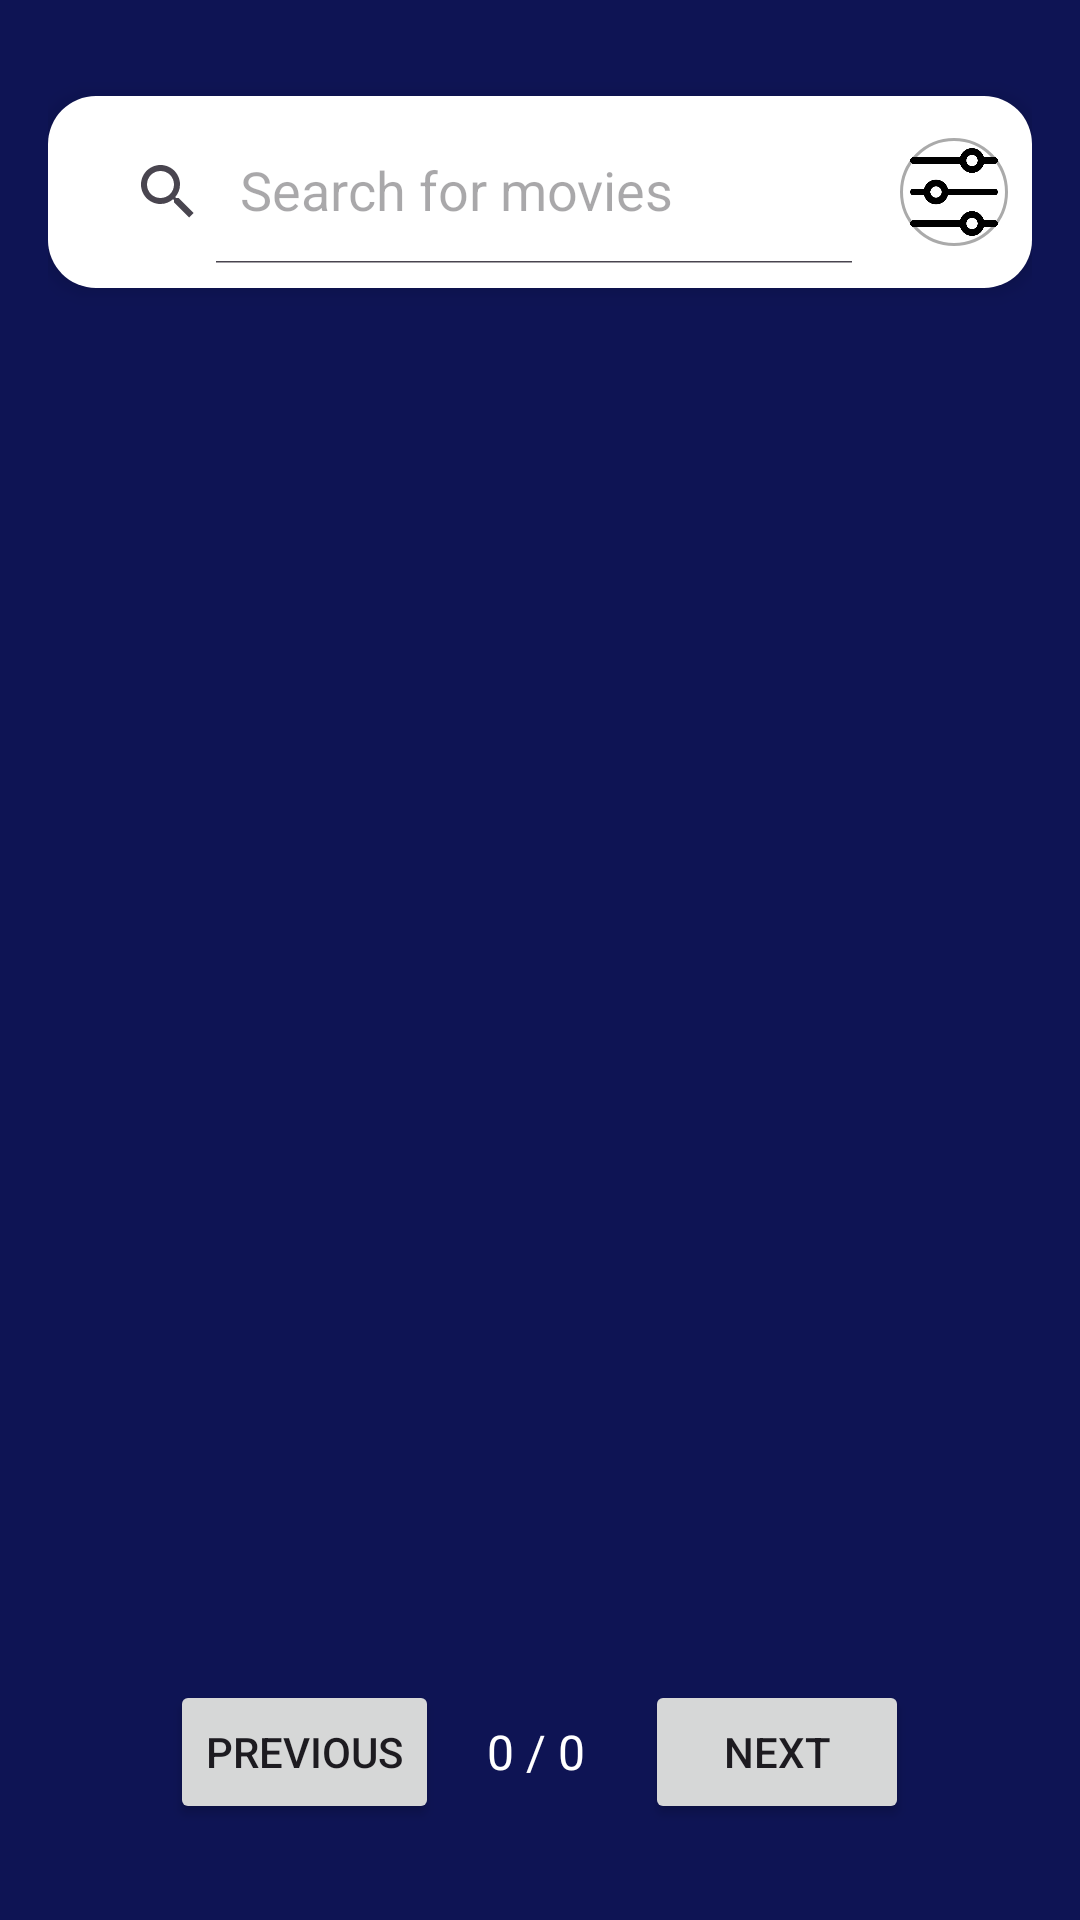

Where icons sit on this 1080w x 1920h app screen, as (x1=x1, y1=y1, x2=x2, y2=y2):
Filter icon: (x1=900, y1=138, x2=1008, y2=246)
